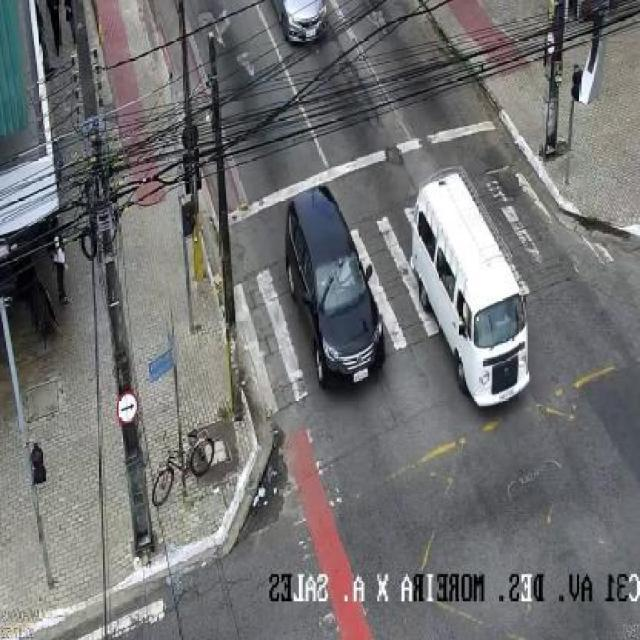bicycle: (152, 424, 216, 510)
car: (410, 172, 532, 408), (284, 186, 388, 389), (270, 0, 328, 42)
motorbike: (49, 215, 71, 308)
